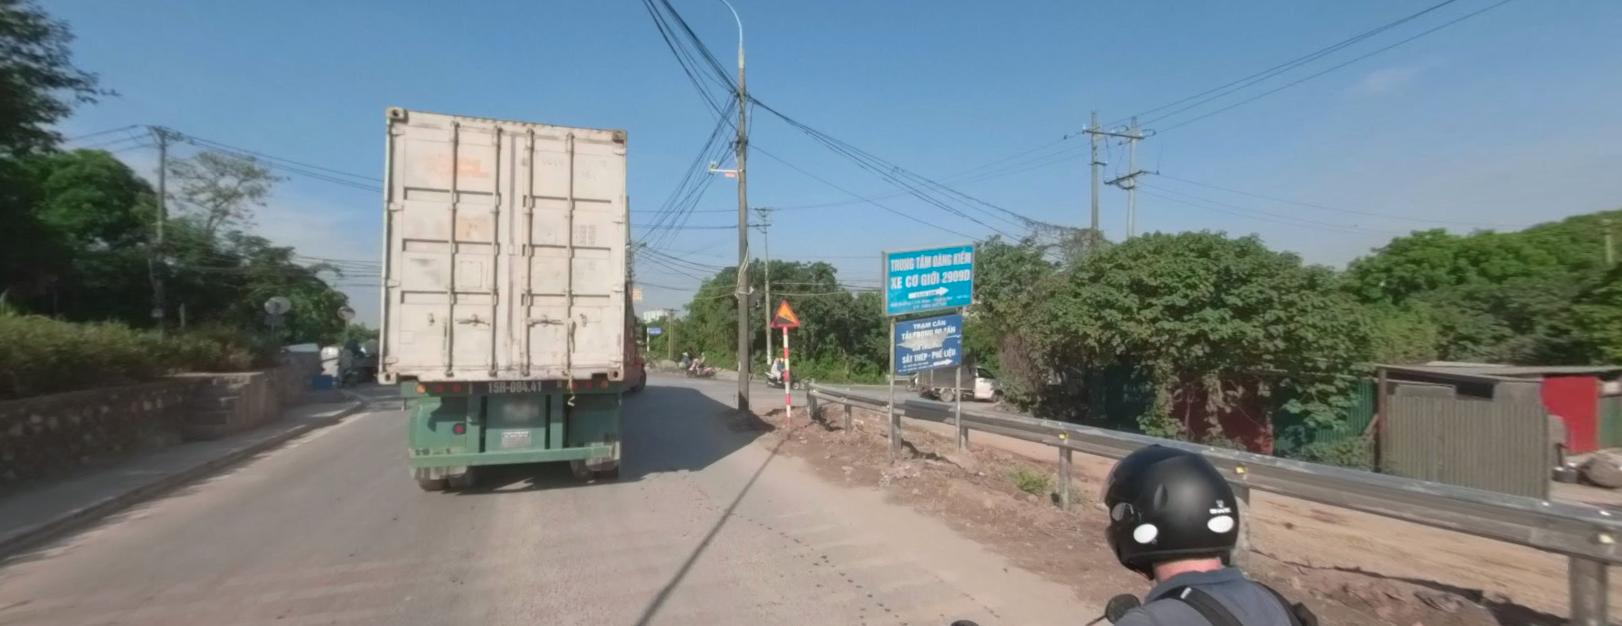Nguy hiem: (767, 296, 801, 330)
